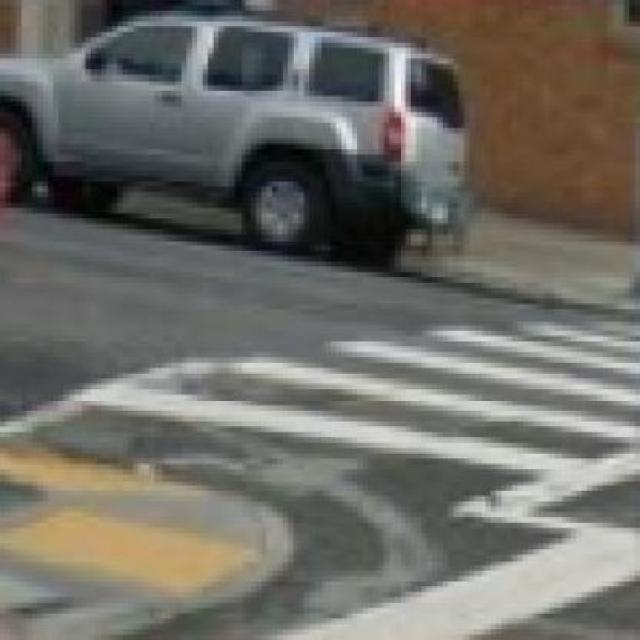crosswalk: (78, 315, 640, 506)
